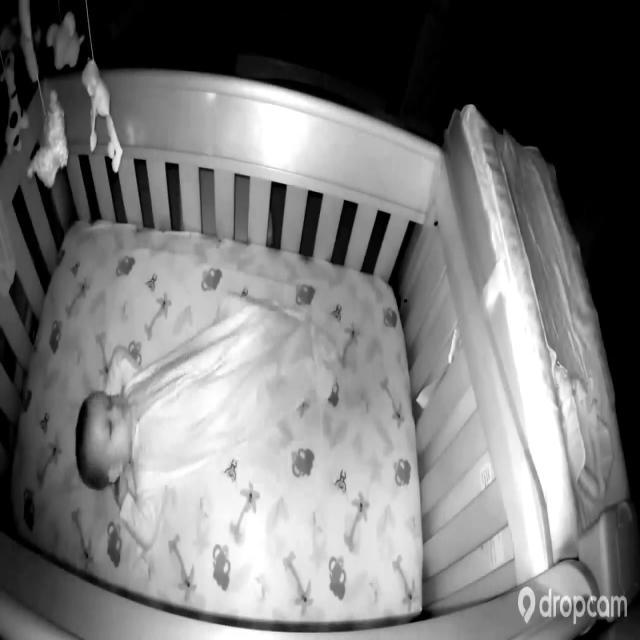baby: (74, 300, 319, 554)
